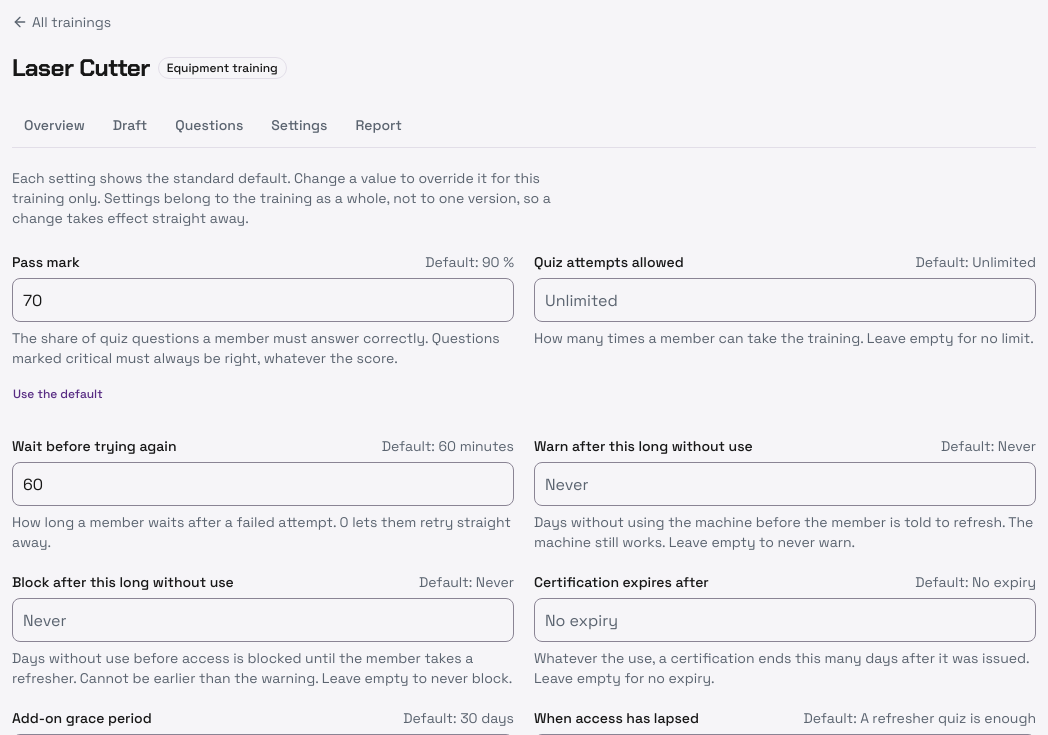
Test: TrainingSettingsForm › puts a single setting back to its default
The image size is (1048, 735).
Check: the heading "Laser Cutter" is shown, box left=12, top=52, right=150, bottom=84
Click the button "Use the default".
click(58, 394)  # box left=12, top=372, right=104, bottom=416
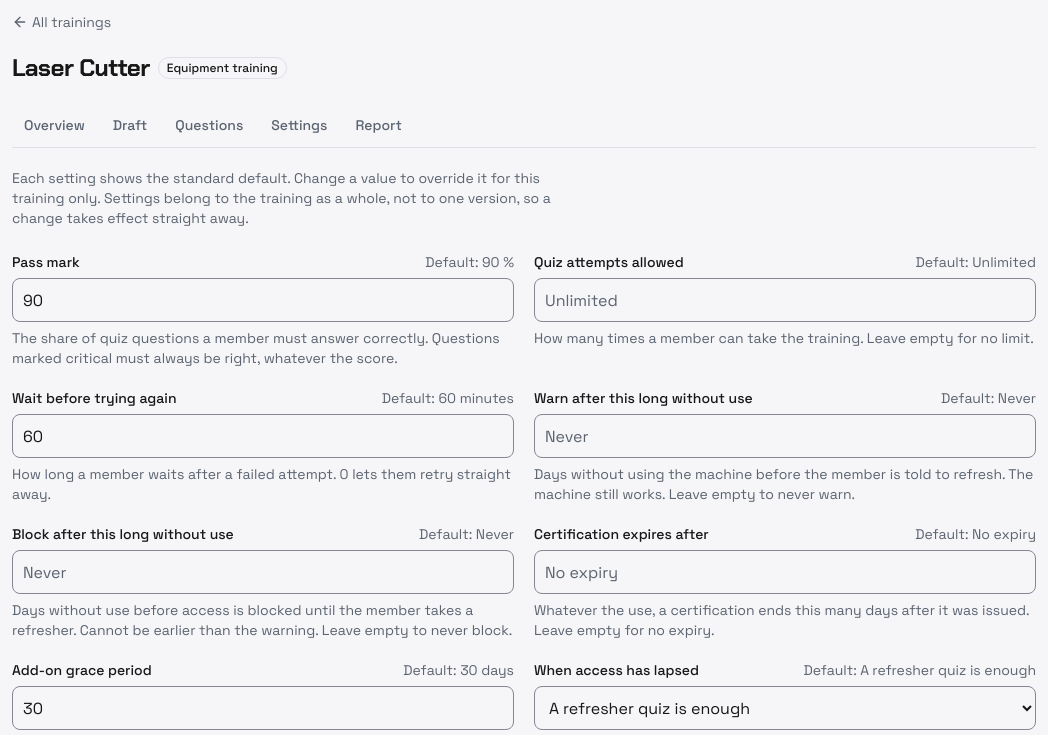
Check: the field labelled "Pass mark" holds "90", box left=12, top=278, right=514, bottom=322
Check: the button "Use the default" is gone
